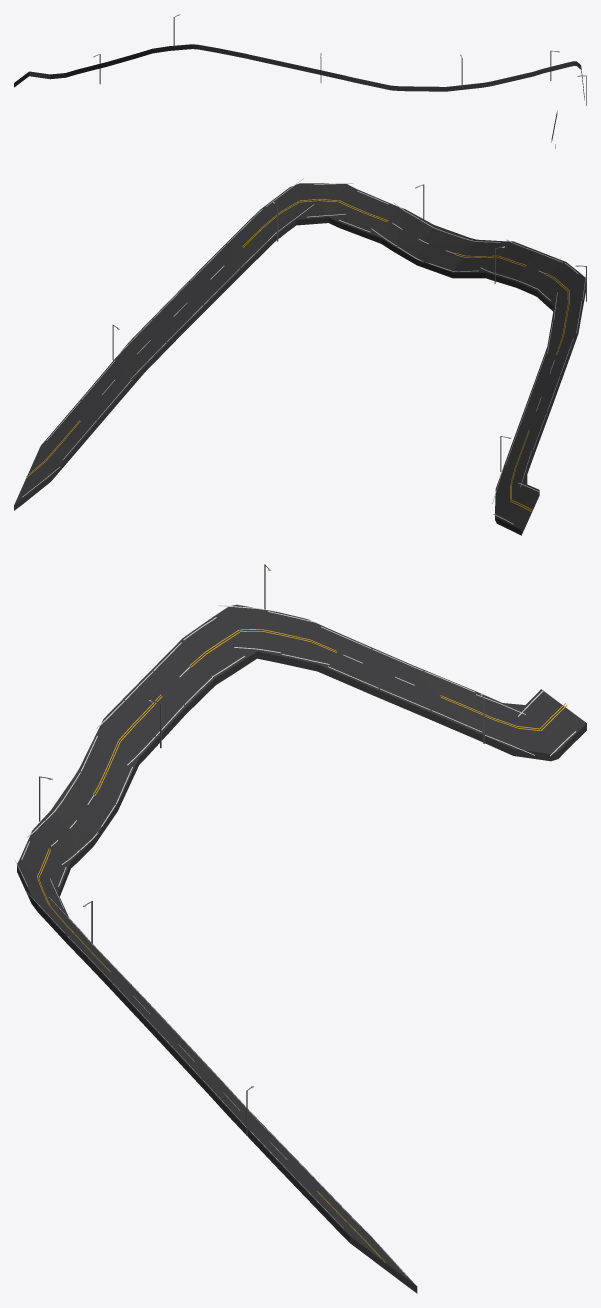
3 views of the same model, one above another, from view 1: azimuth 30°, elevation 25°; view 2: azimuth 150°, elevation 25°; view 3: azimuth 270°, elevation 25° (orthographic). The views are drawn at different scales.
Bounding box in the file's own units: 128 × 68.89 × 86.67.
